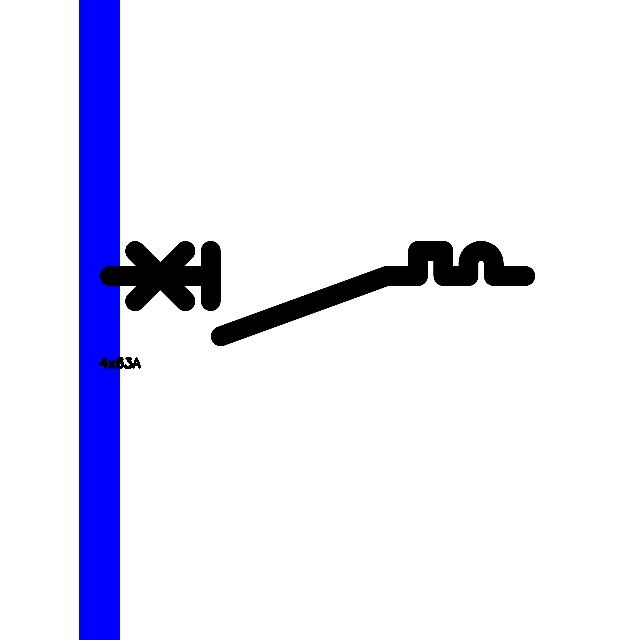interruptor_termomagnetico: (99, 240, 536, 347)
